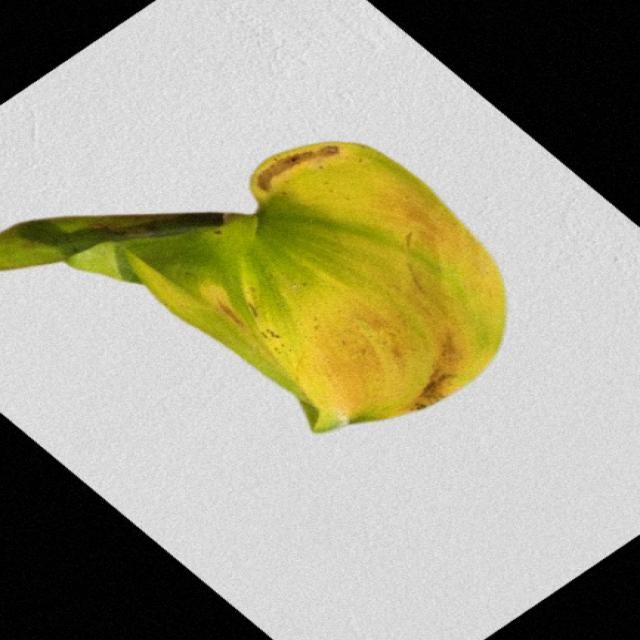daun berpenyakit kuning: (2, 143, 505, 432)
